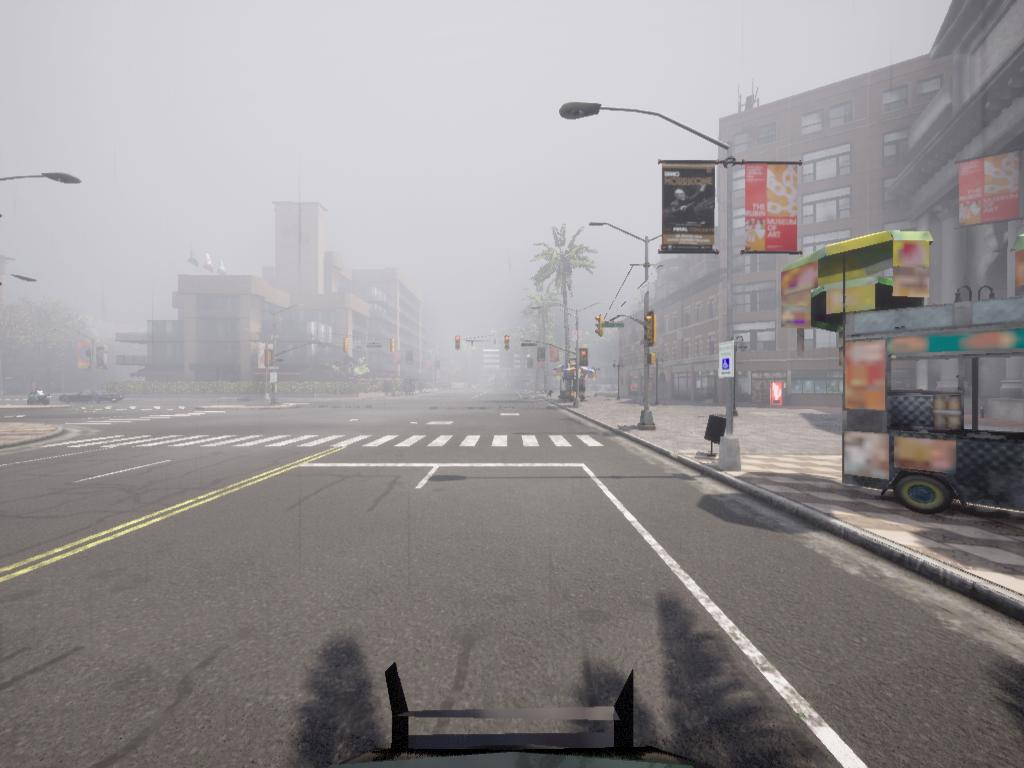traffic_light: (891, 232, 936, 307), (813, 290, 839, 334), (647, 312, 659, 344), (596, 316, 606, 337), (582, 350, 593, 368), (646, 353, 656, 368), (453, 336, 462, 350), (344, 337, 351, 355), (502, 336, 510, 349), (390, 339, 396, 355)
